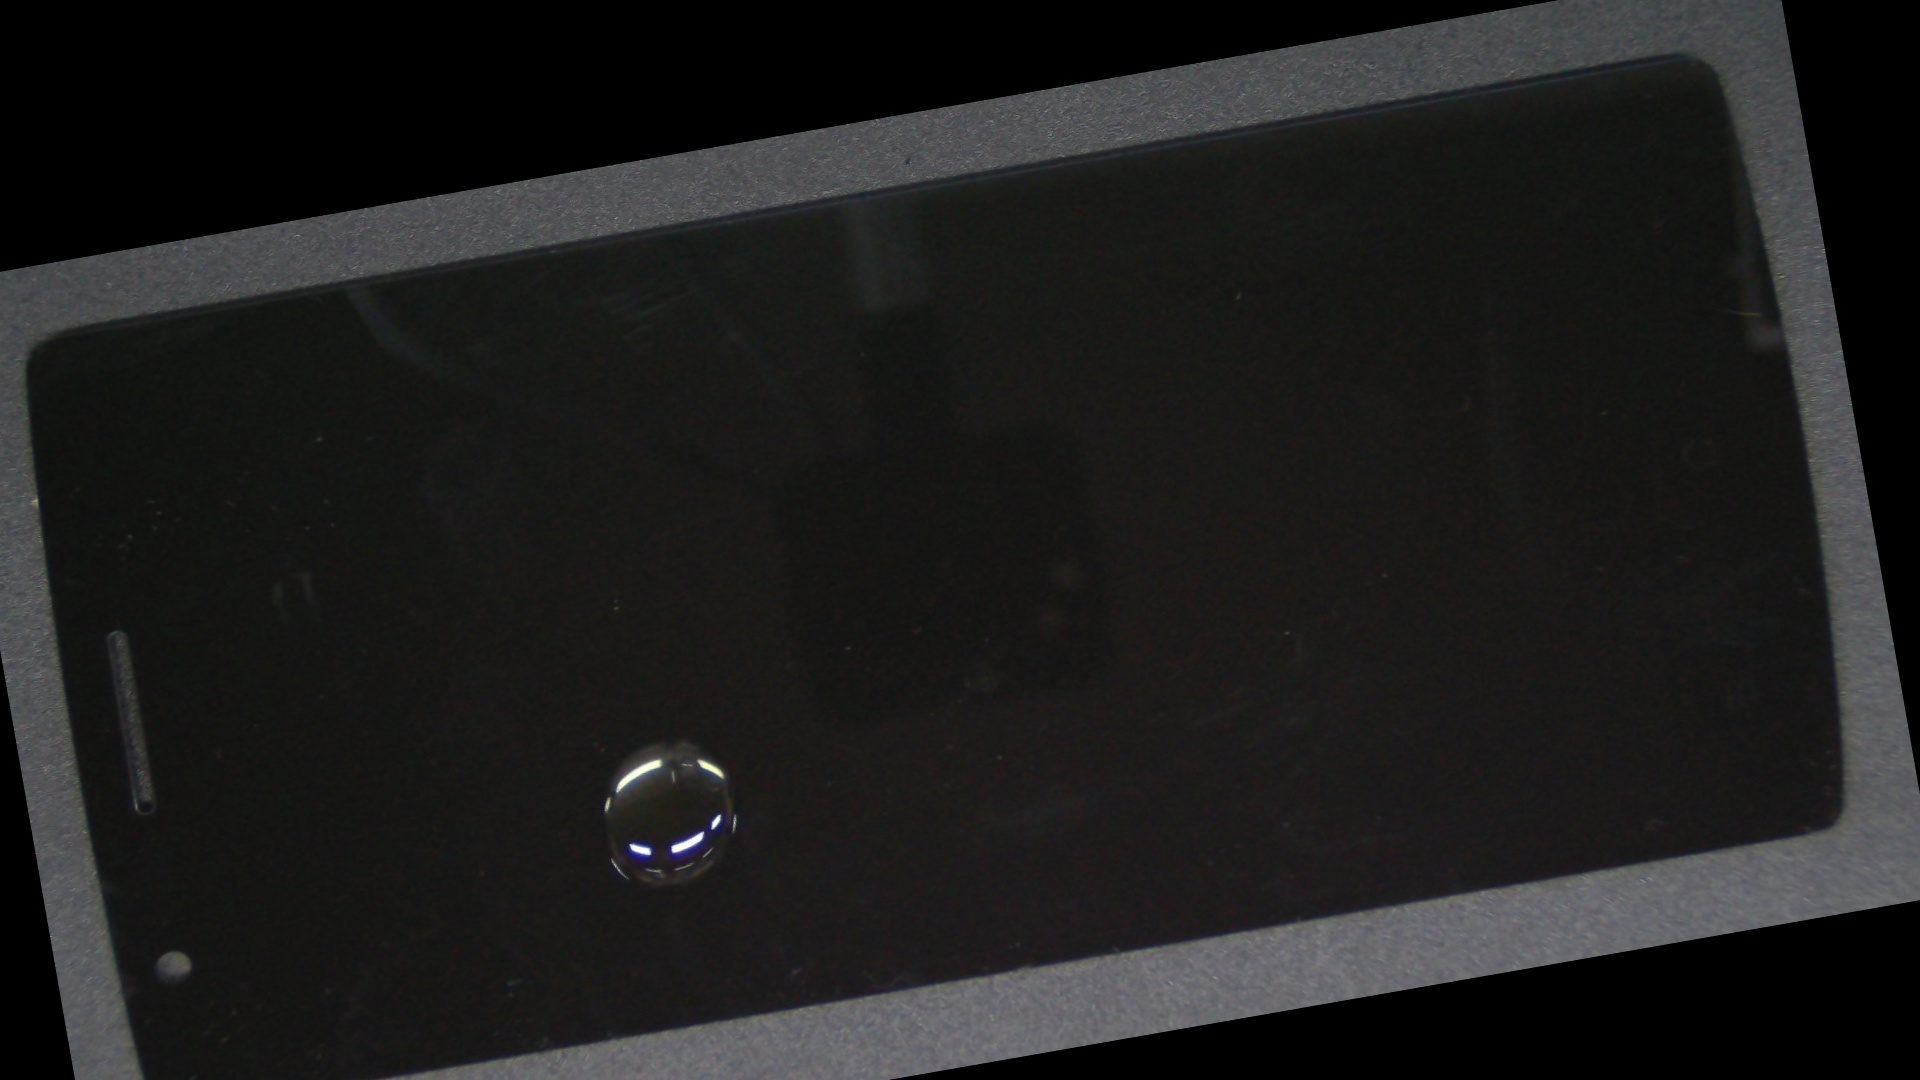oil: (302, 401, 1033, 1079)
